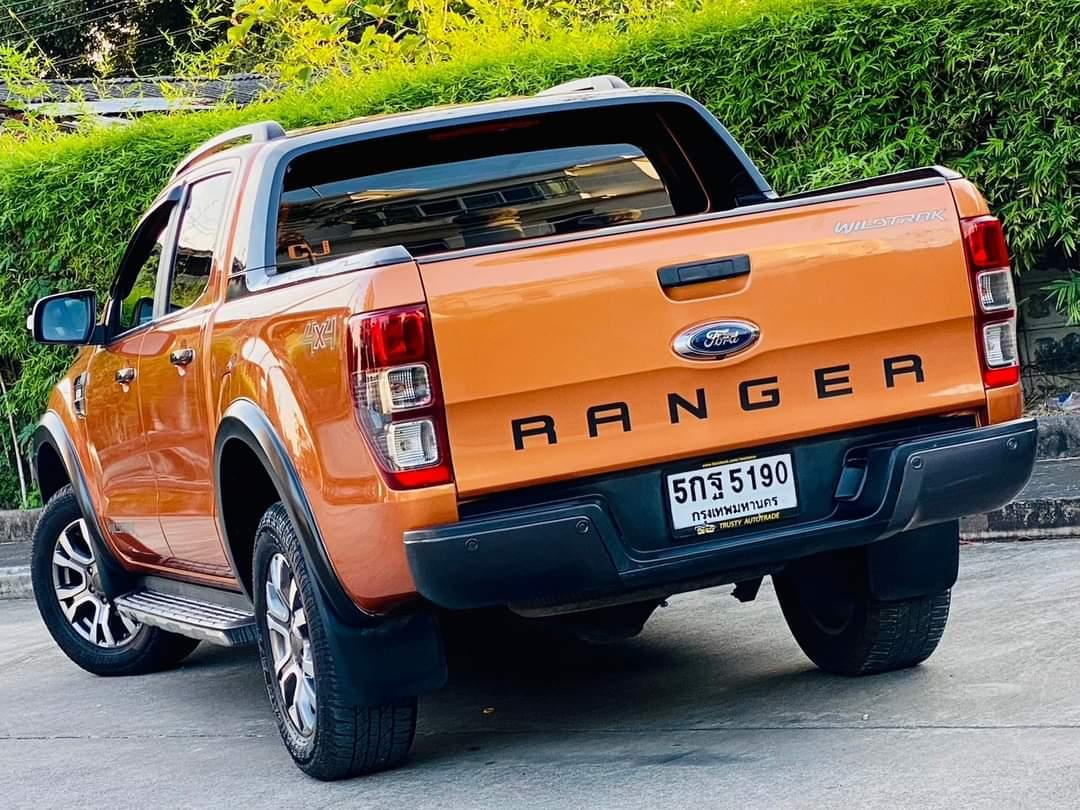license-plate: (659, 445, 803, 543)
